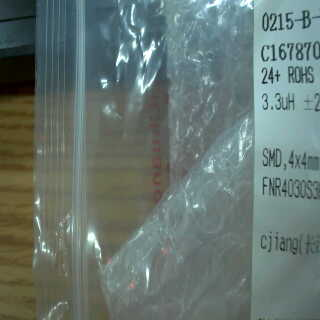3.3uH: (260, 91, 296, 114)
